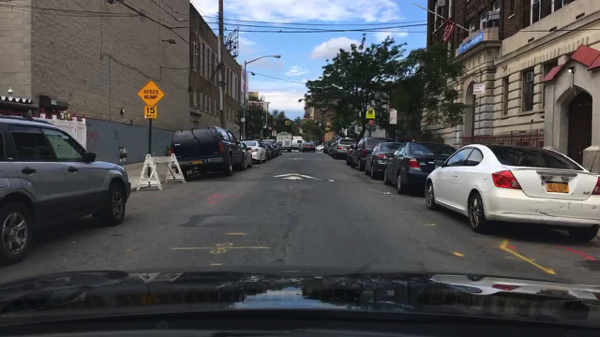car: (0, 115, 132, 273), (423, 142, 600, 241), (168, 125, 247, 176), (382, 141, 455, 195), (344, 136, 394, 171), (363, 141, 403, 180), (239, 140, 266, 164), (331, 137, 357, 159), (257, 141, 279, 158), (262, 139, 282, 155), (257, 142, 274, 160), (323, 139, 335, 154), (291, 136, 303, 150), (327, 142, 336, 156), (314, 144, 323, 152)
traffic light: (284, 120, 289, 126), (302, 117, 307, 123)
traffic sign: (137, 79, 167, 107), (143, 105, 157, 119), (389, 109, 396, 125), (365, 108, 375, 119), (271, 131, 277, 137), (240, 117, 245, 123)
truck: (275, 131, 293, 153)
